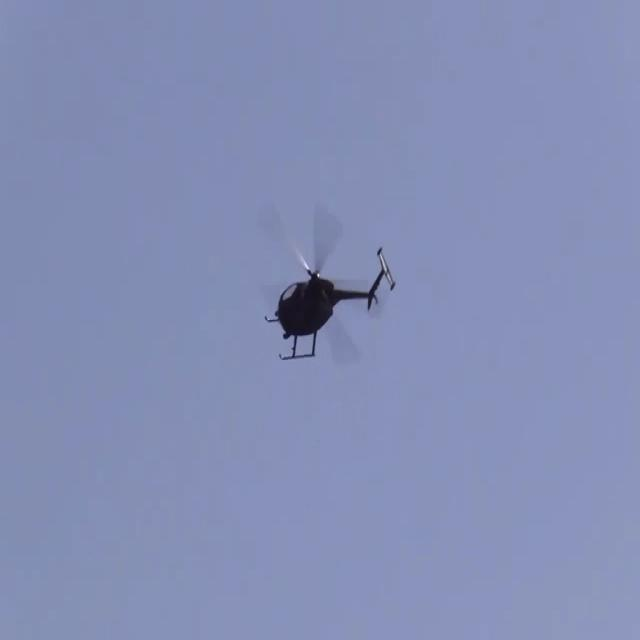Helicopter: (240, 178, 410, 408)
